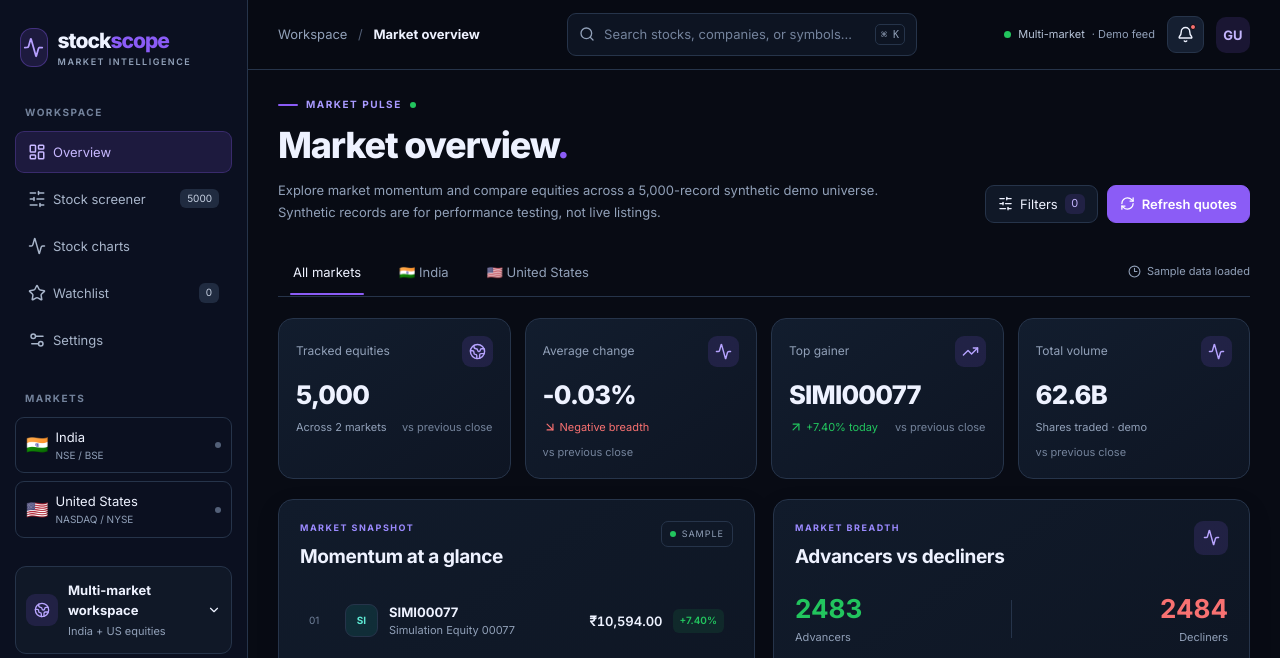
Test: App.jsx dashboard › switches to the screener view
Step 1. Click the button "Stock screener 5000" → (124, 199), box [15,178,232,220]
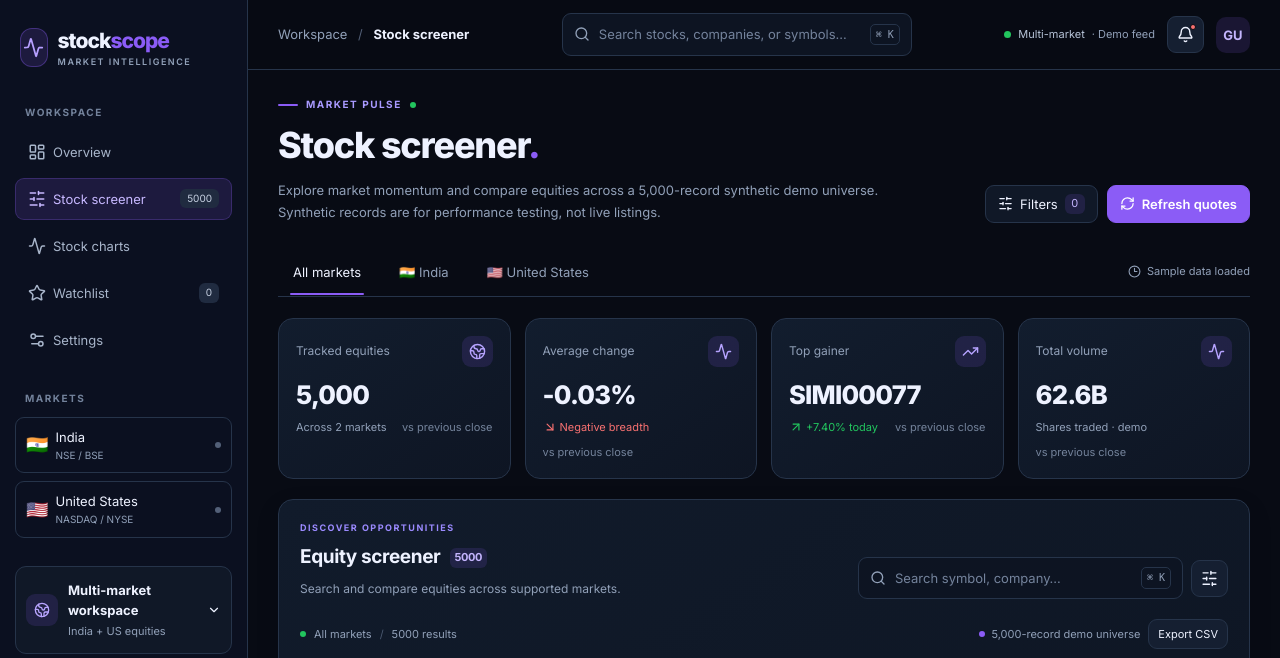
Now the heading "Stock screener." is shown, box [278,122,540,166]
